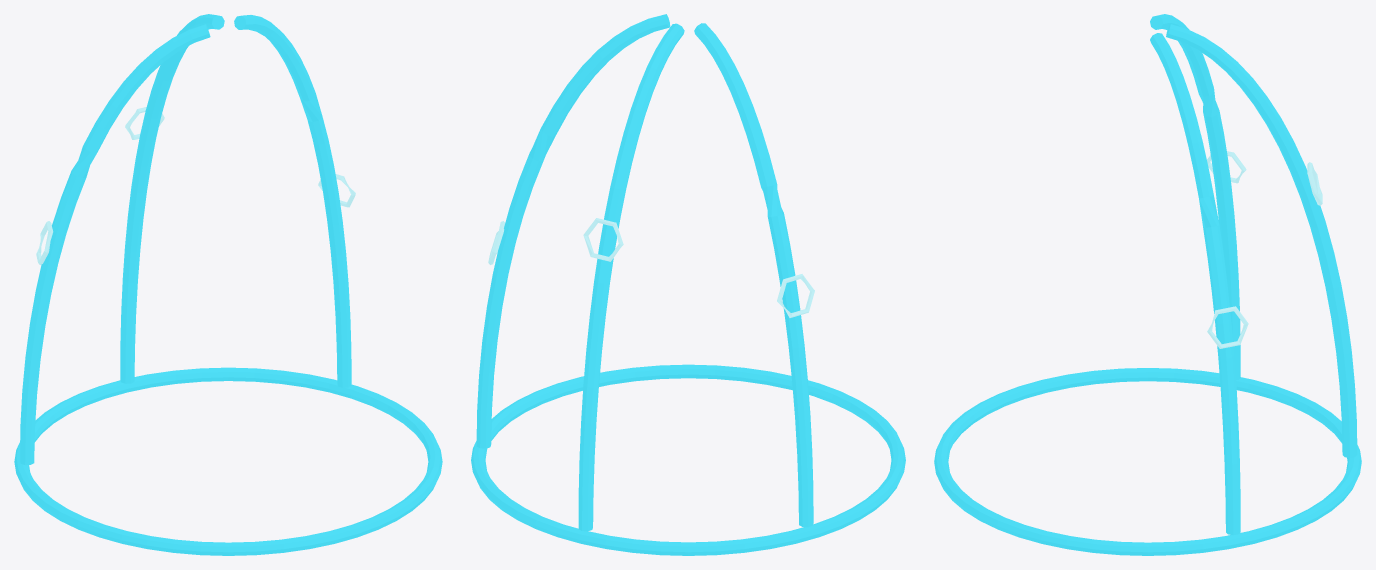
The model's file is fx-shield.glb.
3 views of the same model, side by side, from view 1: azimuth 30°, elevation 25°; view 2: azimuth 150°, elevation 25°; view 3: azimuth 270°, elevation 25° (orthographic).
Parts seen in each view (by area): view 1: shield; view 2: shield; view 3: shield.
Boxes of the visible parts, x1=… form: shield: x1=14, y1=14, x2=442, y2=555; shield: x1=471, y1=14, x2=905, y2=555; shield: x1=934, y1=14, x2=1361, y2=555.
Size of the model in its own units: 1.44 by 1.65 by 1.44.
